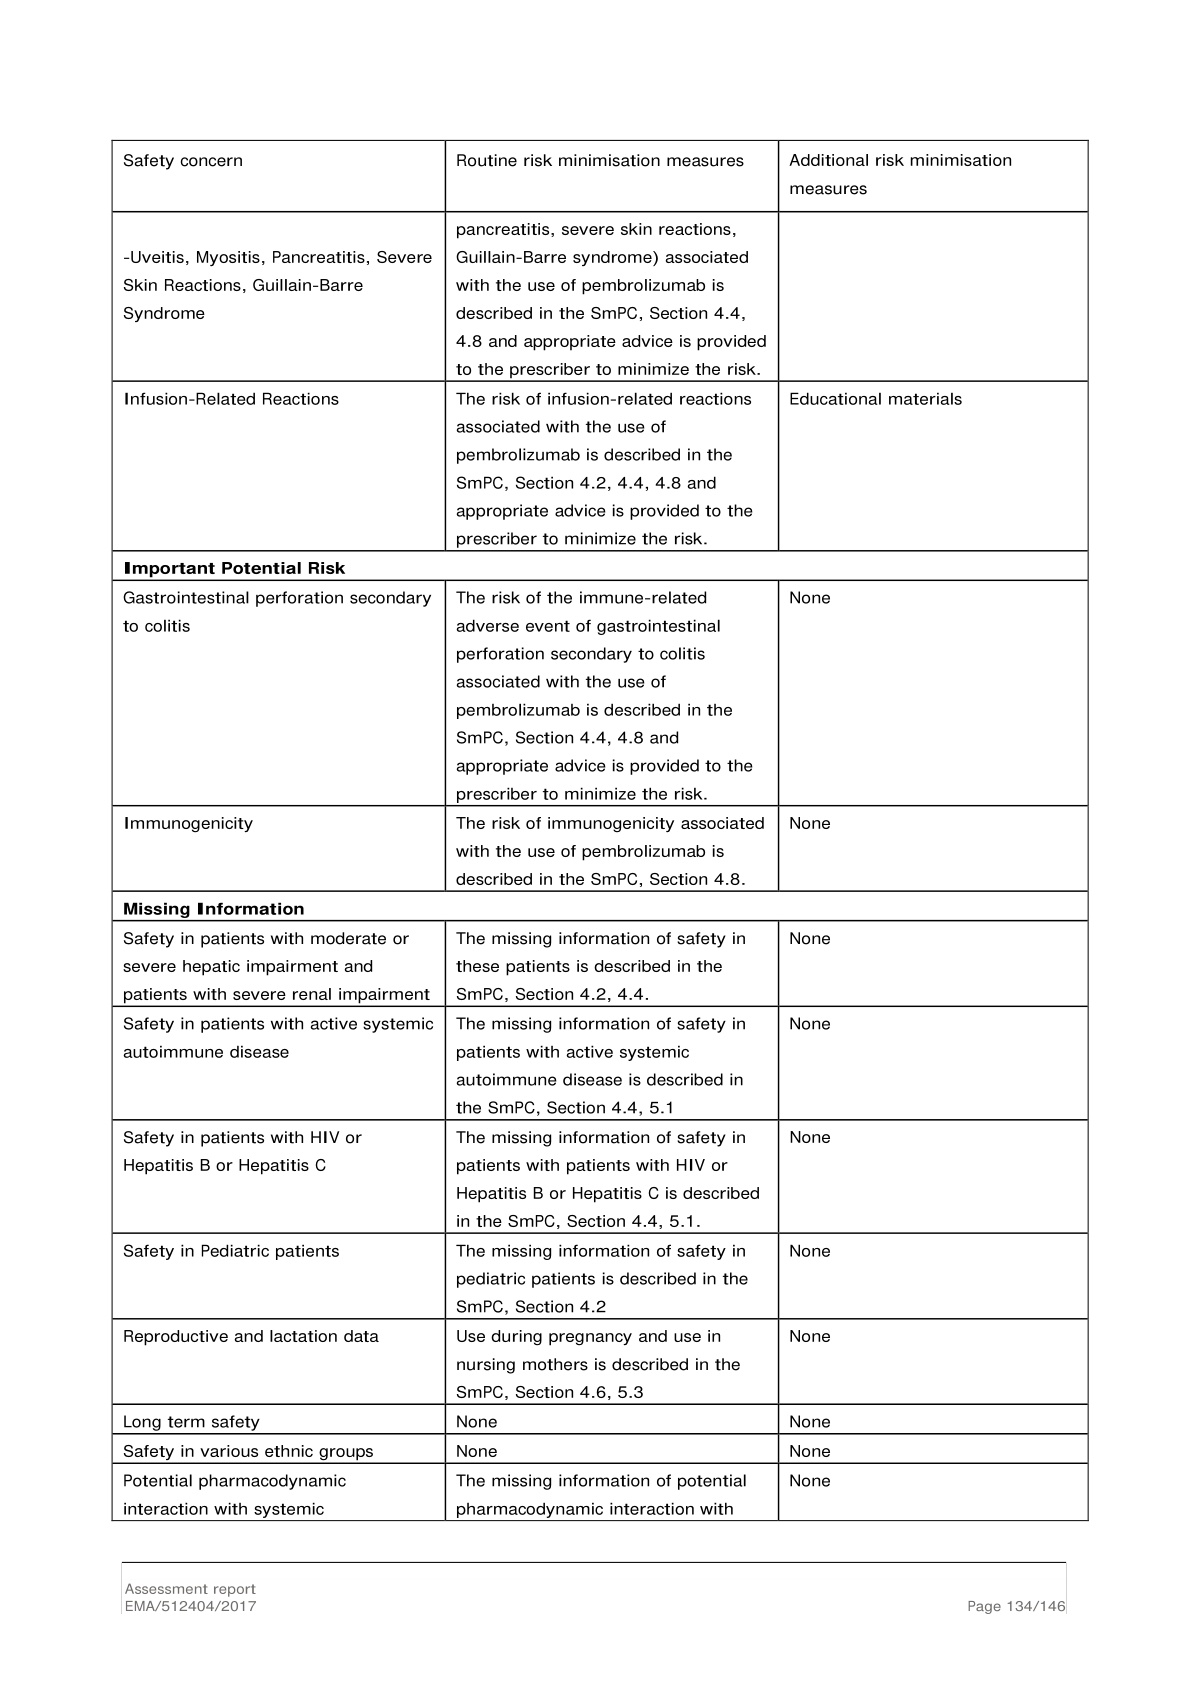merged_cells: (111, 139, 1090, 1522)
